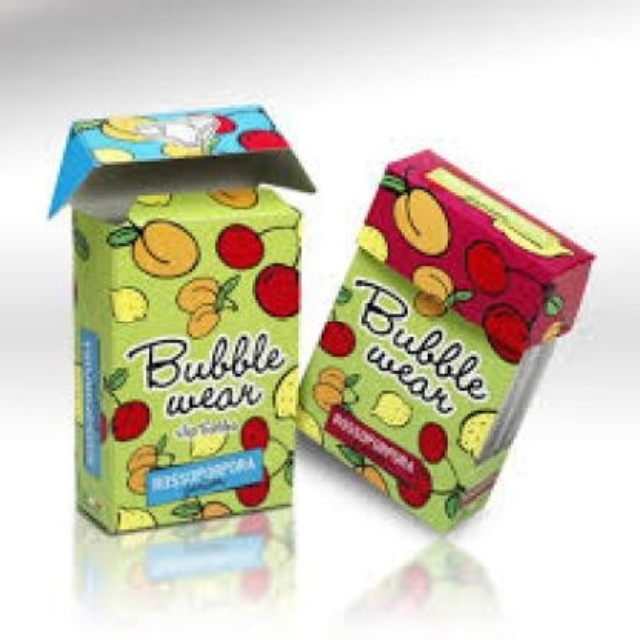trash: (49, 105, 312, 531), (297, 151, 592, 529)
